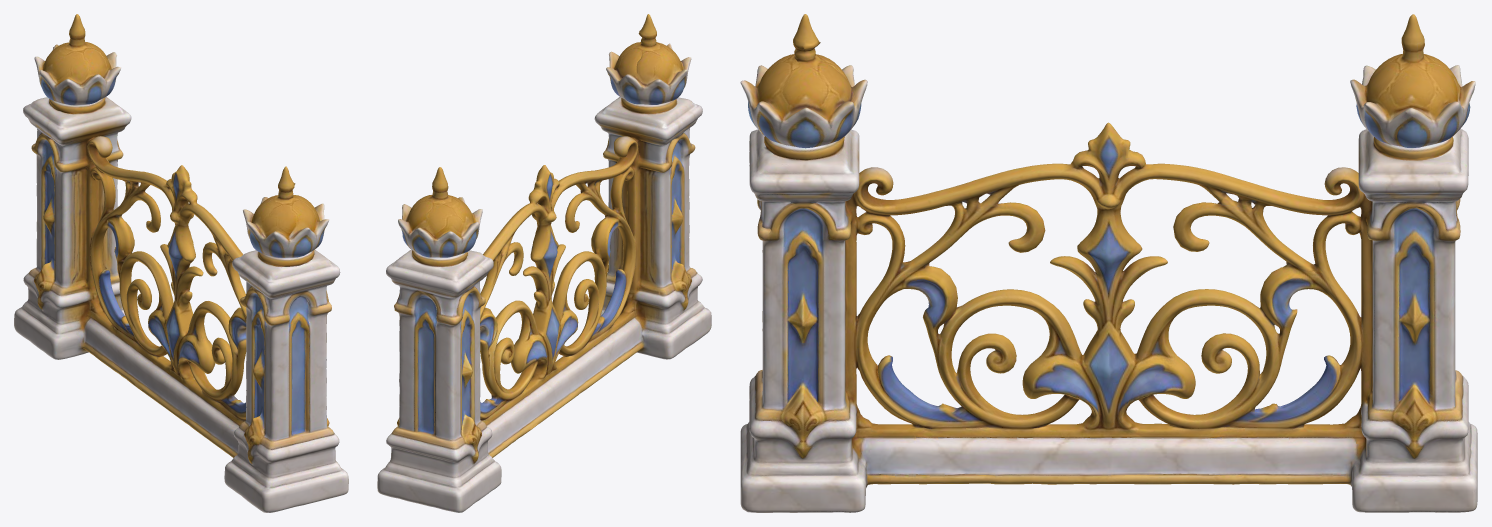
The picture shows the model from 3 angles, left to right: view 1: azimuth 30°, elevation 25°; view 2: azimuth 150°, elevation 25°; view 3: azimuth 270°, elevation 25°; orthographic projection. The views are drawn at different scales.
Parts seen in each view (by area): view 1: tripo_node_73cbaad4-f7ee-4d28-ad5e-2a39a9602e9a; view 2: tripo_node_73cbaad4-f7ee-4d28-ad5e-2a39a9602e9a; view 3: tripo_node_73cbaad4-f7ee-4d28-ad5e-2a39a9602e9a.
Boxes of the visible parts, x1,y1,x2,y2 form: tripo_node_73cbaad4-f7ee-4d28-ad5e-2a39a9602e9a: (14,14,348,512); tripo_node_73cbaad4-f7ee-4d28-ad5e-2a39a9602e9a: (377,14,711,512); tripo_node_73cbaad4-f7ee-4d28-ad5e-2a39a9602e9a: (740,14,1477,512).
Bounding box in the file's own units: 0.19 × 0.6861 × 0.975.
1 material, 1 textured.
